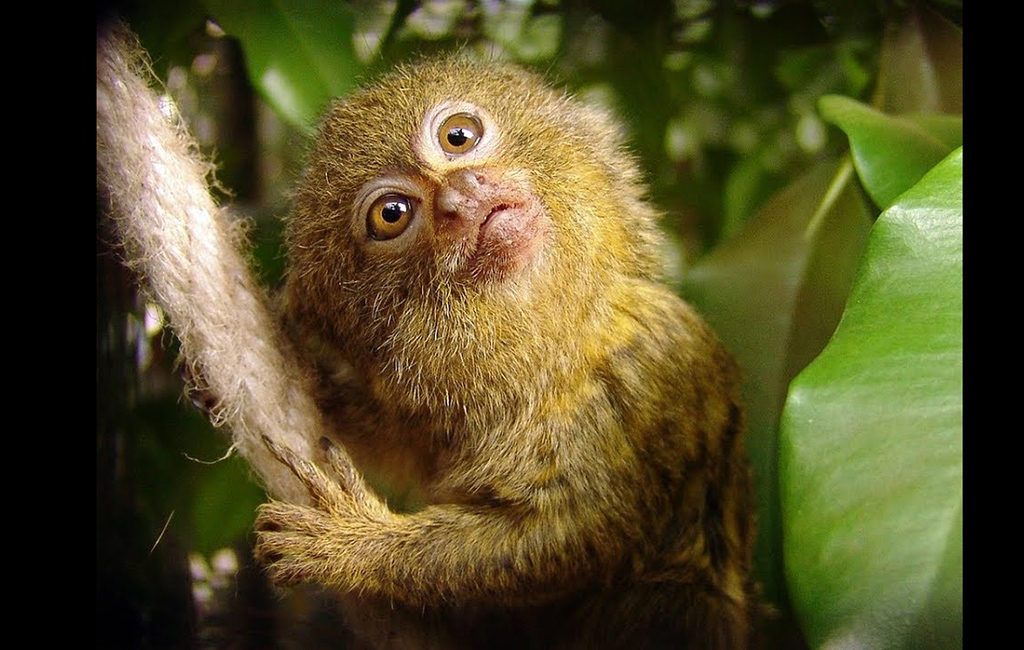PygmyMarmoset: (254, 70, 769, 634)
